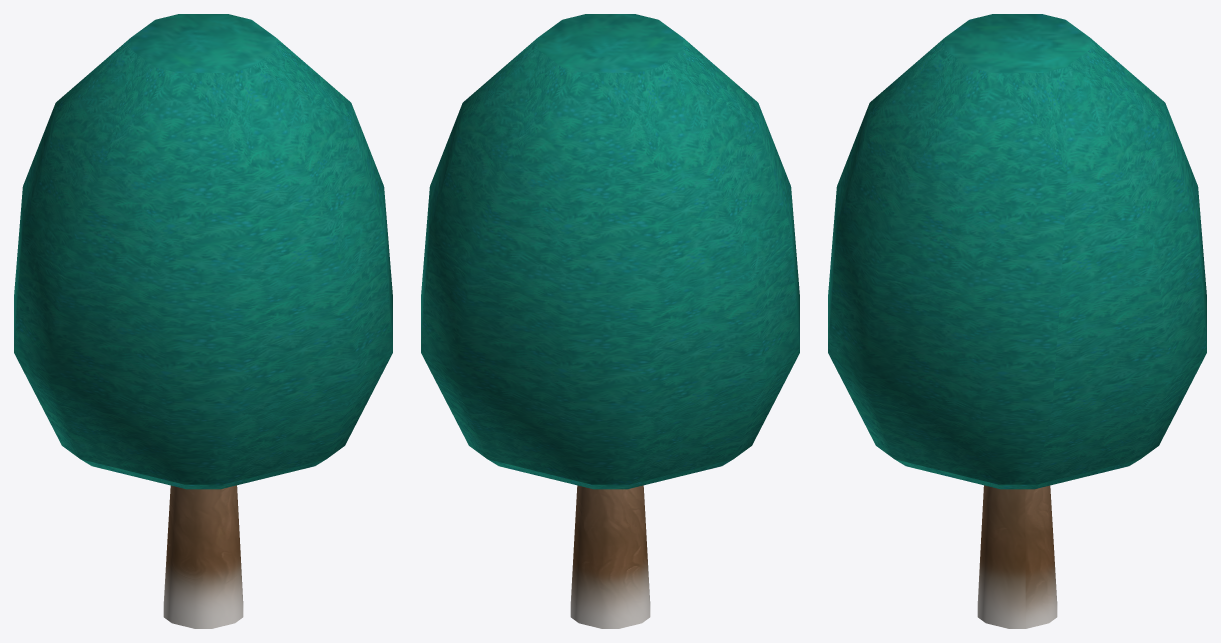
File: Tree02_S.FBX
3 views of the same model, side by side, from view 1: azimuth 30°, elevation 25°; view 2: azimuth 150°, elevation 25°; view 3: azimuth 270°, elevation 25° (orthographic).
Parts seen in each view (by area): view 1: Cylinder009; view 2: Cylinder009; view 3: Cylinder009.
Boxes of the visible parts, bbox=[...] form: Cylinder009: bbox=[14, 14, 392, 628]; Cylinder009: bbox=[421, 14, 799, 628]; Cylinder009: bbox=[828, 14, 1206, 628].
Bounding box in the file's own units: 115 × 181 × 110.
